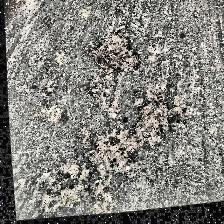pothole: (85, 31, 141, 82)
